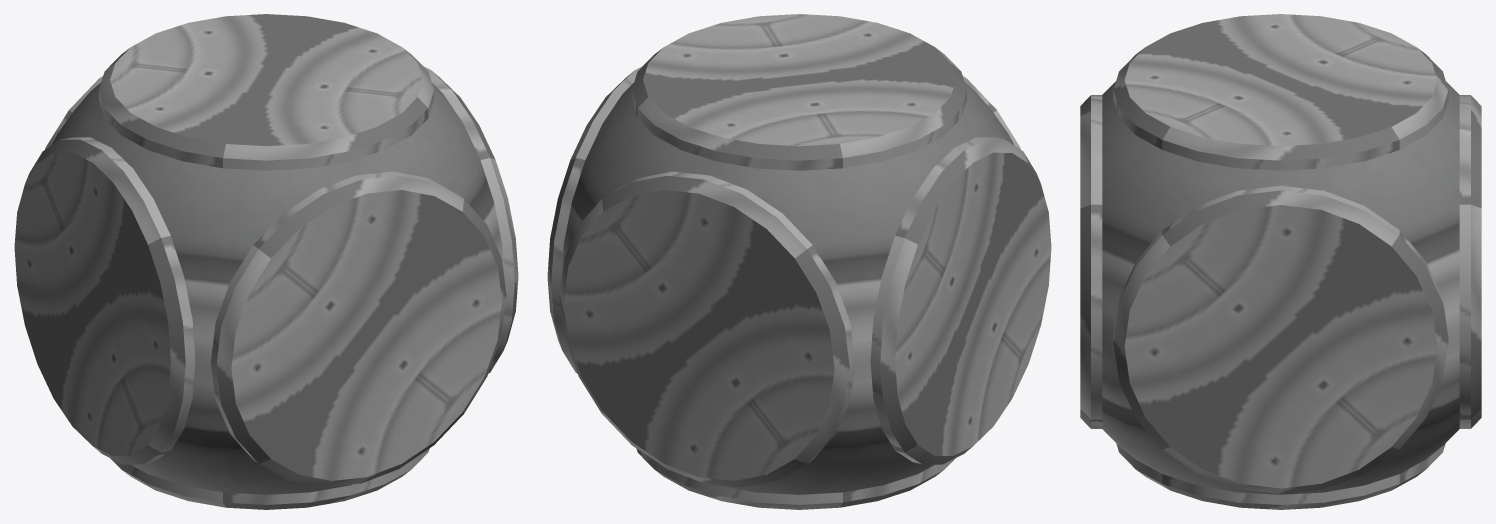
The model's file is Eridani_Node_1.obj.
3 views of the same model, side by side, from view 1: azimuth 30°, elevation 25°; view 2: azimuth 150°, elevation 25°; view 3: azimuth 270°, elevation 25° (orthographic).
Visible parts, largest first — view 1: Eridani_Node_1; view 2: Eridani_Node_1; view 3: Eridani_Node_1.
Part boxes in pixels (bbox=[...]): Eridani_Node_1: bbox=[14, 14, 518, 509]; Eridani_Node_1: bbox=[547, 14, 1051, 509]; Eridani_Node_1: bbox=[1080, 14, 1481, 509].
Size of the model in its own units: 1.12 by 1.12 by 1.12.
